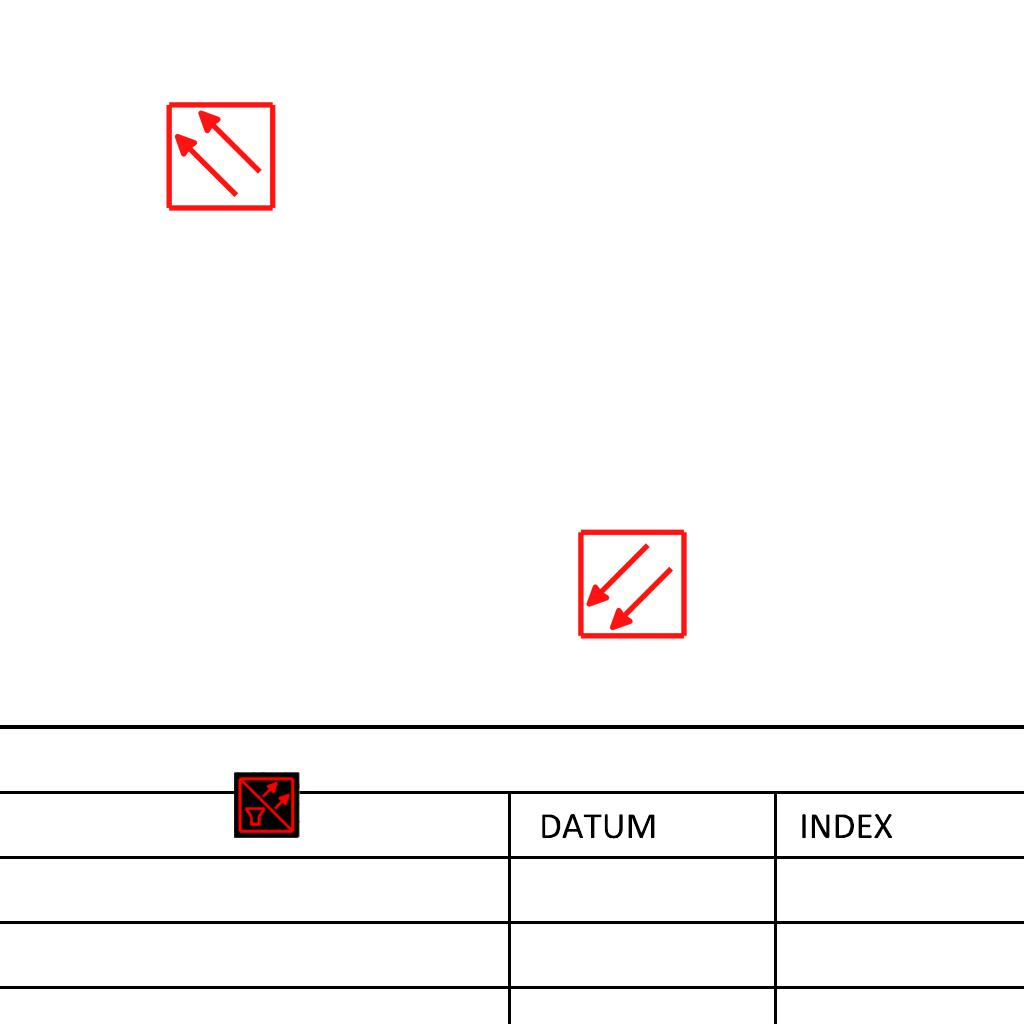OKW_Multisensormelder_(Kombination_optischer_Rauch-Kahlenmonoxid_Waerme-Melder): (234, 772, 300, 838)
RMO_Rauchmelder_optischer: (576, 528, 689, 641), (164, 100, 277, 213)
